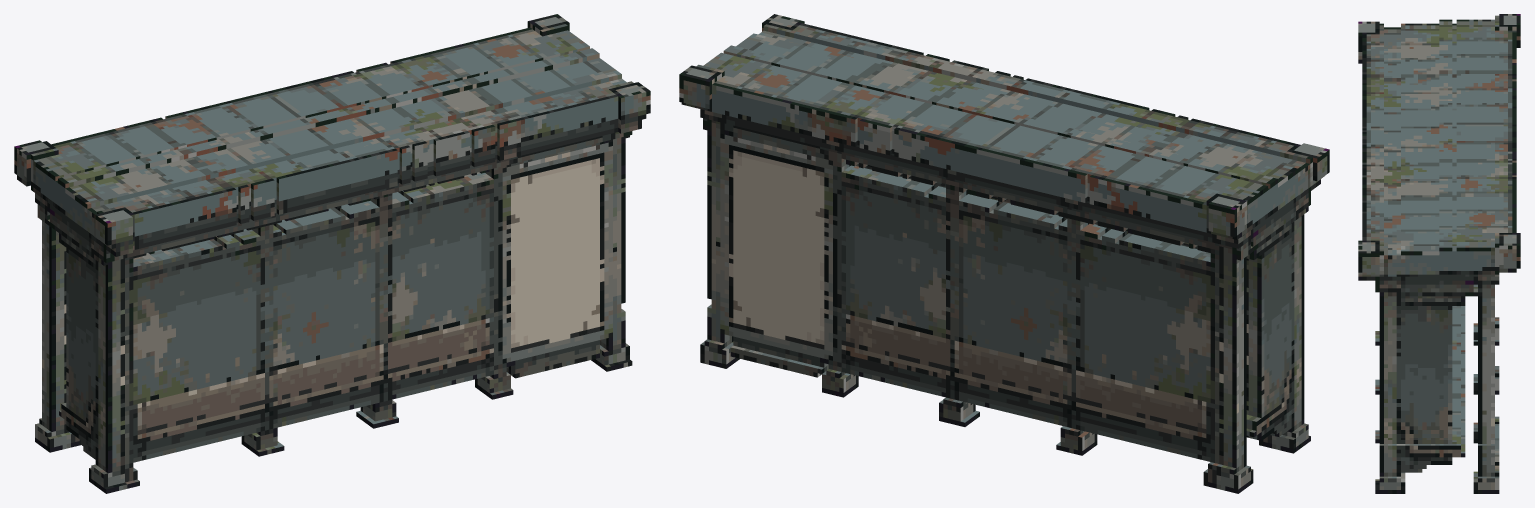
File: city_bus_stop.glb
3 renders of one model, left to right at view 1: azimuth 30°, elevation 25°; view 2: azimuth 150°, elevation 25°; view 3: azimuth 270°, elevation 25°, orthographic. The views are drawn at different scales.
Parts seen in each view (by area): view 1: city_bus_stop; view 2: city_bus_stop; view 3: city_bus_stop.
Boxes of the visible parts, box(x1,y1,x2,y2) form: city_bus_stop: box(14, 14, 650, 493); city_bus_stop: box(679, 14, 1329, 493); city_bus_stop: box(1358, 14, 1520, 493).
Bounding box in the file's own units: 4 × 2.03 × 1.19.
